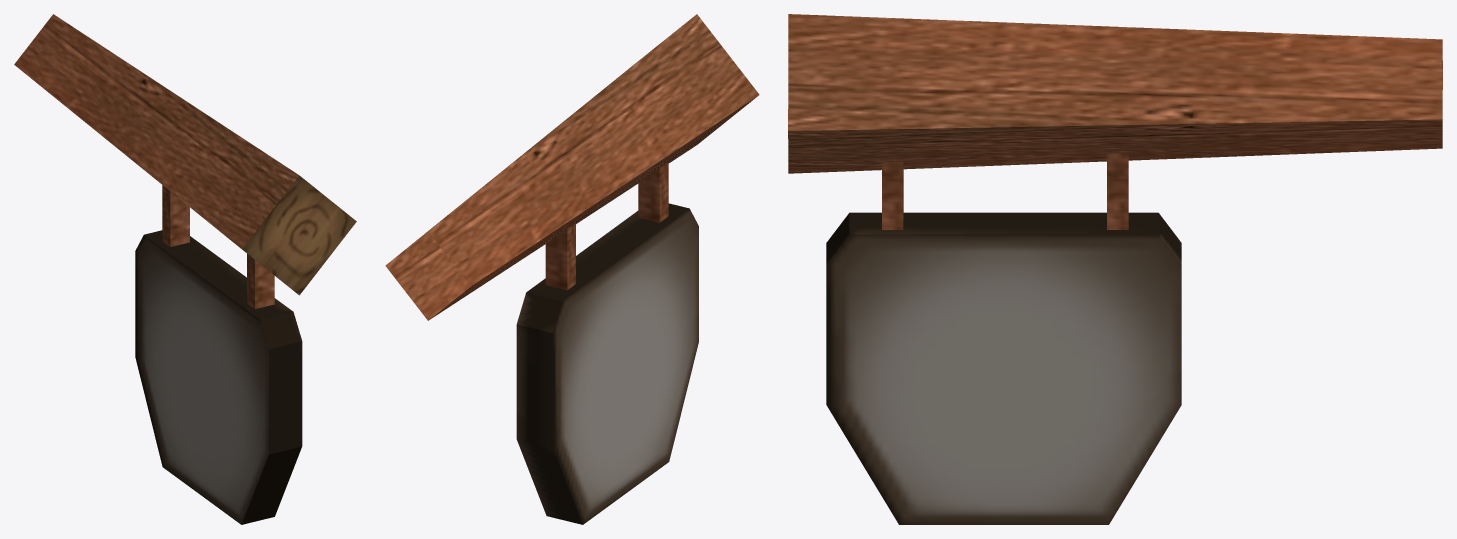
The model's file is fanasty_mod_sign01.fbx.
The picture shows the model from 3 angles, left to right: view 1: azimuth 30°, elevation 25°; view 2: azimuth 150°, elevation 25°; view 3: azimuth 270°, elevation 25°; orthographic projection. The views are drawn at different scales.
Visible parts, largest first — view 1: sign_01; view 2: sign_01; view 3: sign_01.
Part boxes in pixels (bbox=[...]): sign_01: bbox=[14, 14, 356, 524]; sign_01: bbox=[385, 14, 759, 524]; sign_01: bbox=[788, 14, 1442, 524].
Size of the model in its own units: 0.5703 by 1.78 by 2.12.
